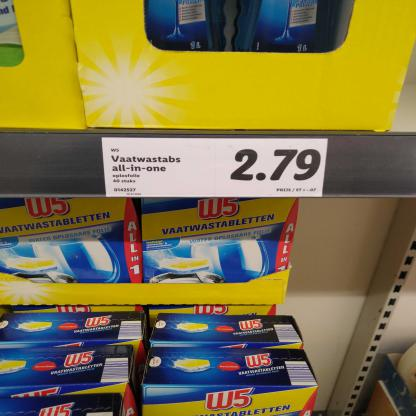prtg: (102, 138, 329, 199)
